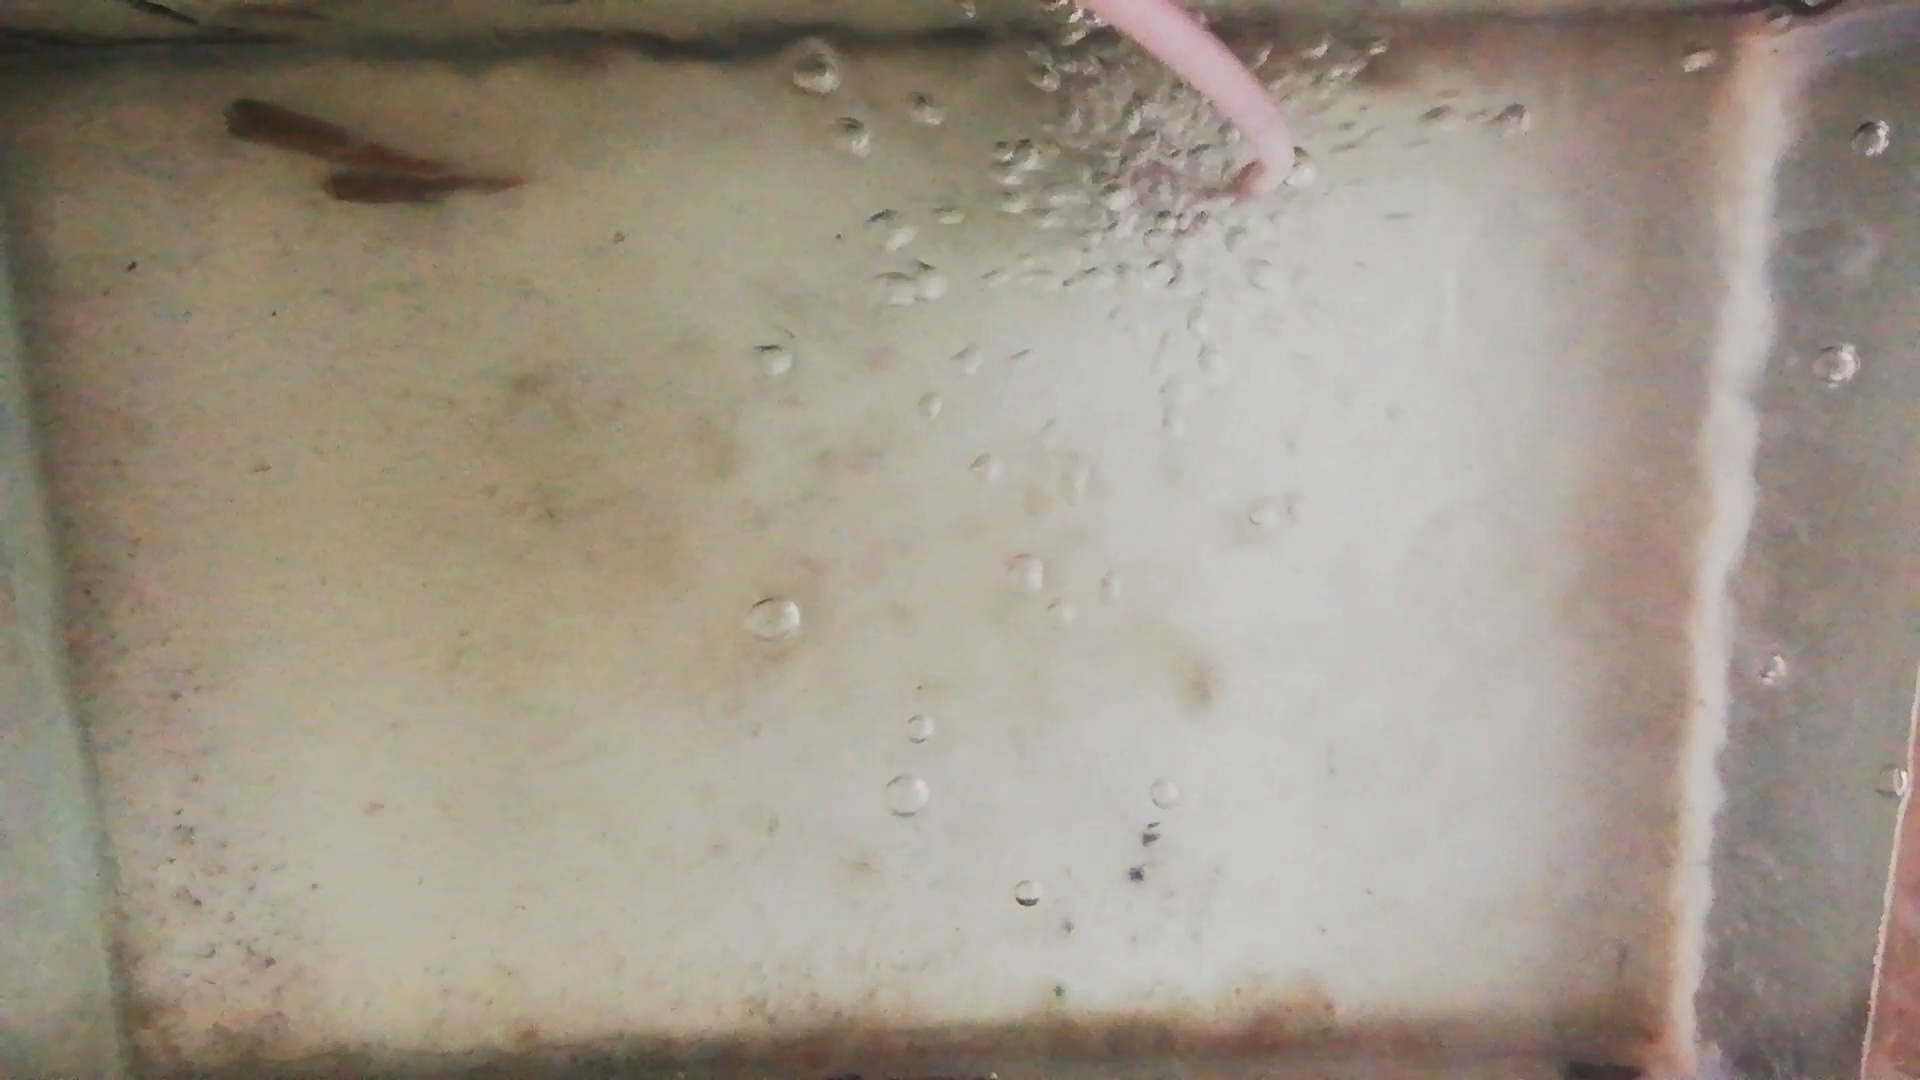fish: (219, 95, 436, 167), (309, 166, 520, 207)
